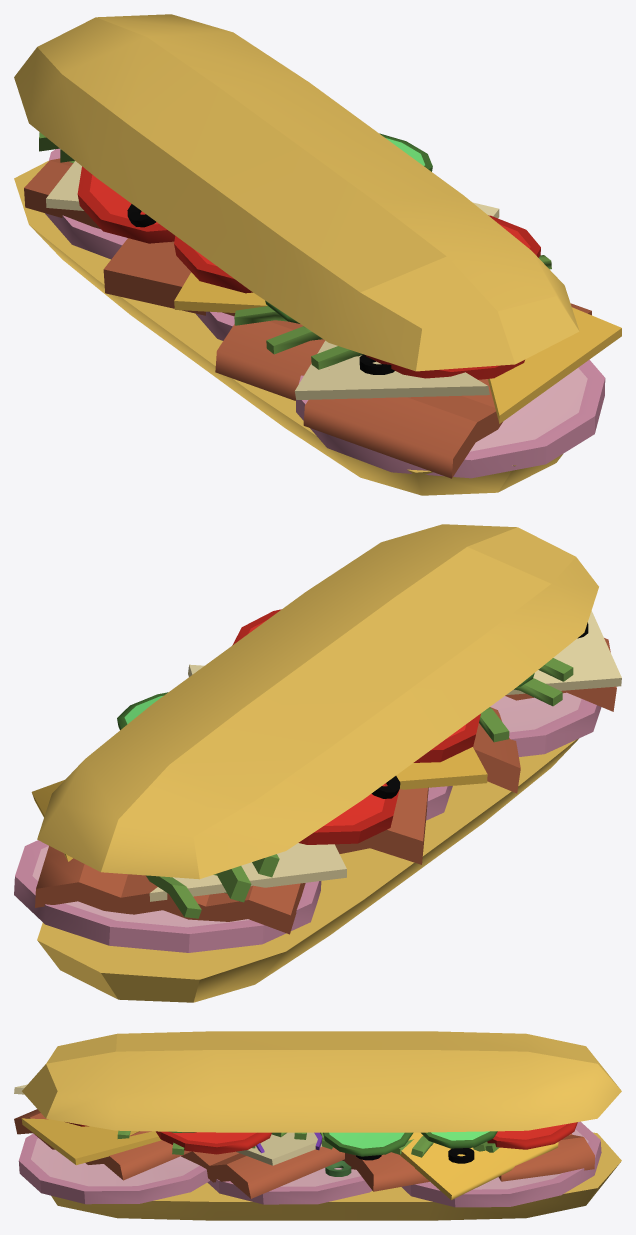
File: SubwaySandwich.fbx
3 renders of one model, top to bottom at view 1: azimuth 30°, elevation 25°; view 2: azimuth 150°, elevation 25°; view 3: azimuth 270°, elevation 25°, orthographic. The views are drawn at different scales.
Visible parts, largest first — view 1: subway sandwich; view 2: subway sandwich; view 3: subway sandwich.
Boxes of the visible parts, x1,y1,x2,y2 form: subway sandwich: [14, 14, 621, 495]; subway sandwich: [14, 524, 621, 1002]; subway sandwich: [14, 1031, 621, 1220].
Bounding box in the file's own units: 108 × 65.66 × 238.
